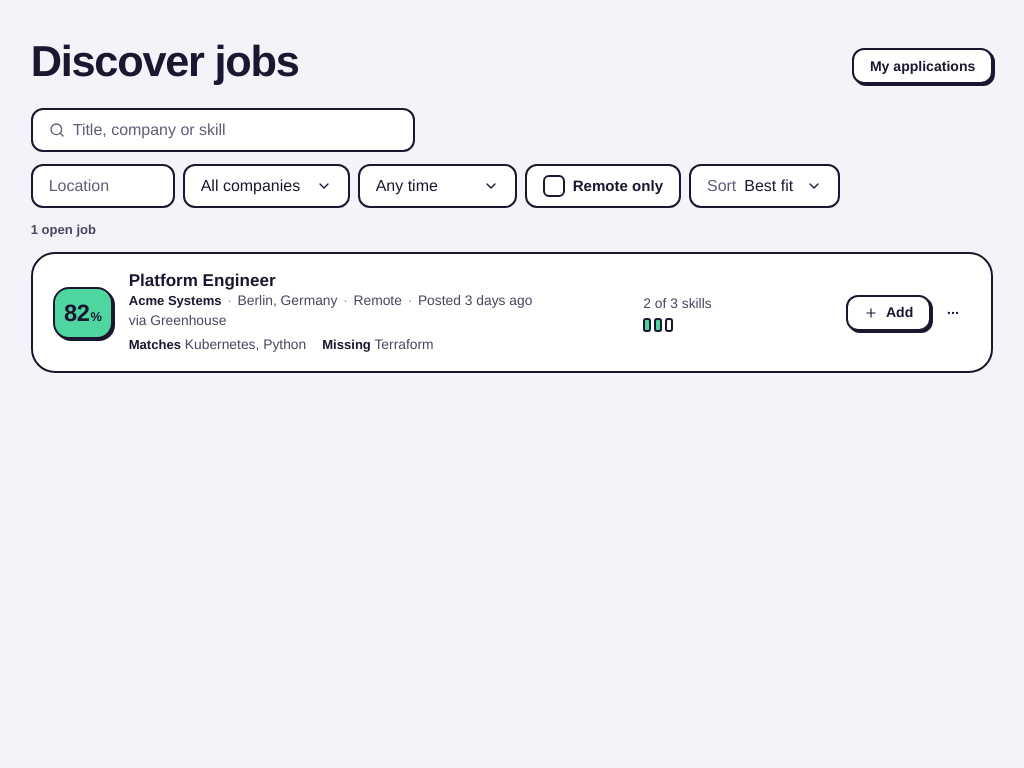
Test: DiscoveryPage › undoes an add from the toast: the application is deleted and the row offers Add again
The width and height of the screenshot is (1024, 768).
Click the button with aria-label "Add to applications". click: [889, 313]
box: [846,295,931,331]
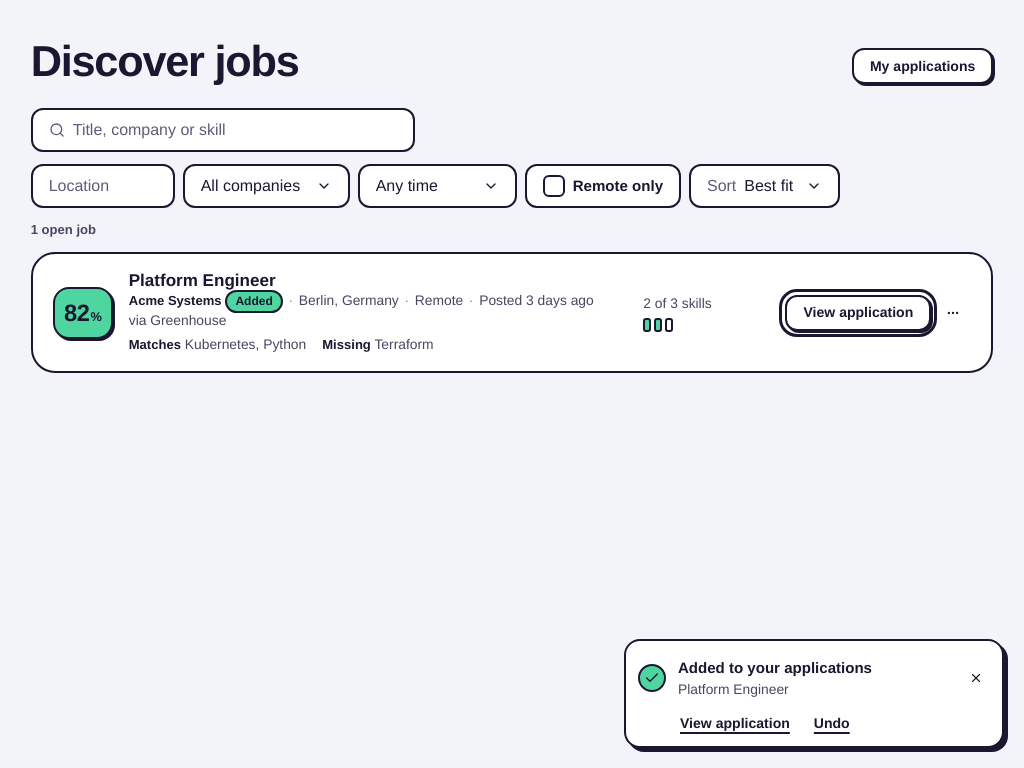
Now the link with aria-label "View application for Platform Engineer" is shown, box [786,295,931,331]
Click the button "Undo". click: [832, 723]
box: [812,712,852,734]
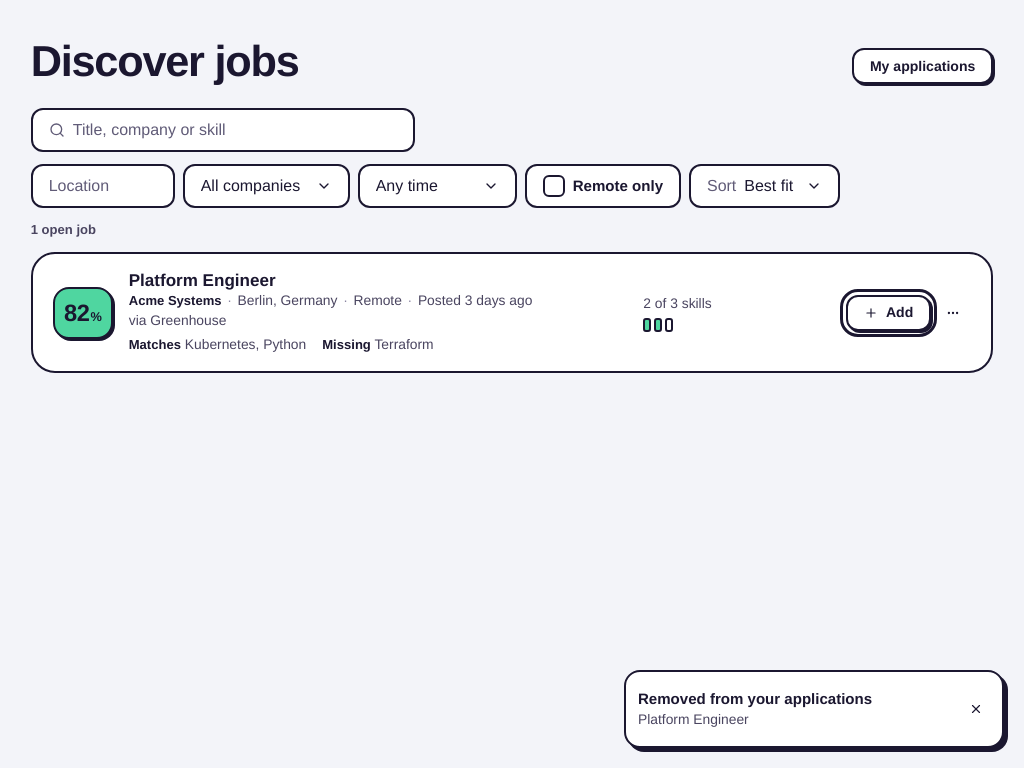
Expected: the button with aria-label "Add to applications" is shown, [846,295,931,331]
Now the text "Added" is gone
Now the text "Removed from your applications" is shown, box [638,688,872,708]
